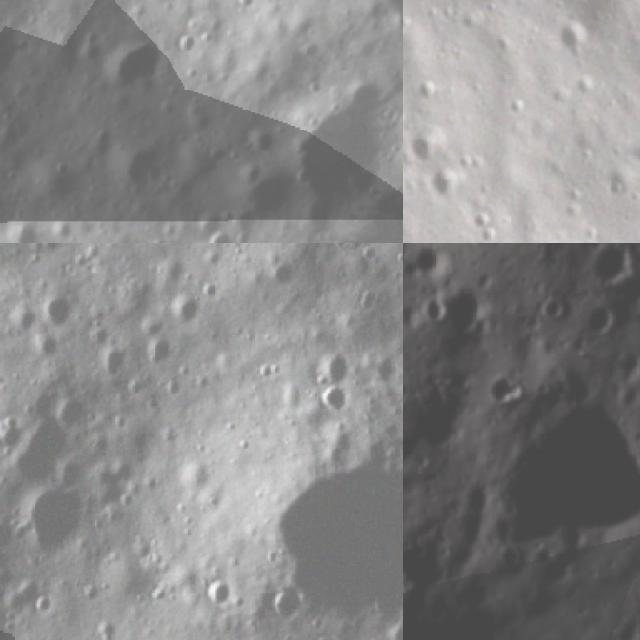crater: (495, 398, 640, 550), (0, 389, 88, 497), (85, 11, 182, 107), (96, 120, 188, 210), (222, 146, 310, 235), (20, 482, 91, 568), (0, 6, 40, 100), (228, 104, 288, 164), (441, 281, 492, 345), (586, 243, 640, 294), (532, 547, 586, 594), (189, 194, 237, 241), (548, 18, 594, 66), (423, 160, 471, 205), (262, 582, 308, 628), (162, 286, 208, 332), (36, 286, 81, 330), (403, 125, 439, 179), (196, 571, 242, 613), (578, 302, 623, 344), (476, 375, 526, 412), (407, 243, 448, 285), (96, 341, 132, 388), (312, 381, 354, 421), (0, 209, 48, 243), (146, 328, 187, 367), (264, 256, 302, 297), (187, 221, 255, 243), (420, 291, 450, 333), (620, 128, 640, 182), (403, 555, 418, 626), (540, 292, 570, 324), (0, 512, 19, 559), (617, 611, 640, 640)
